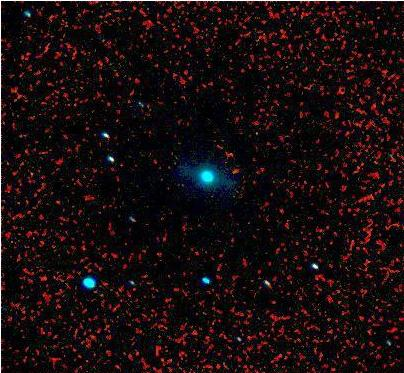star: (220, 156, 250, 186)
